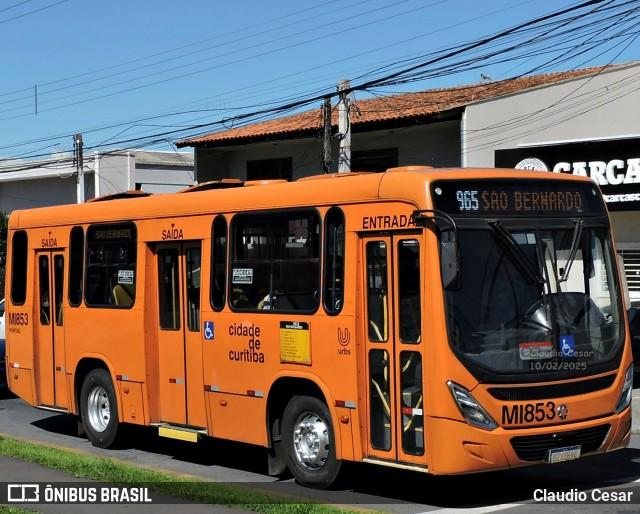SAO BERNARDO: (478, 189, 588, 215)
